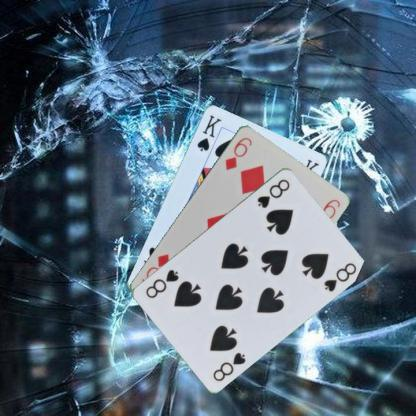6d: (223, 134, 253, 172)
8s: (210, 349, 248, 382), (254, 176, 291, 209)
Ks: (194, 112, 223, 153)
